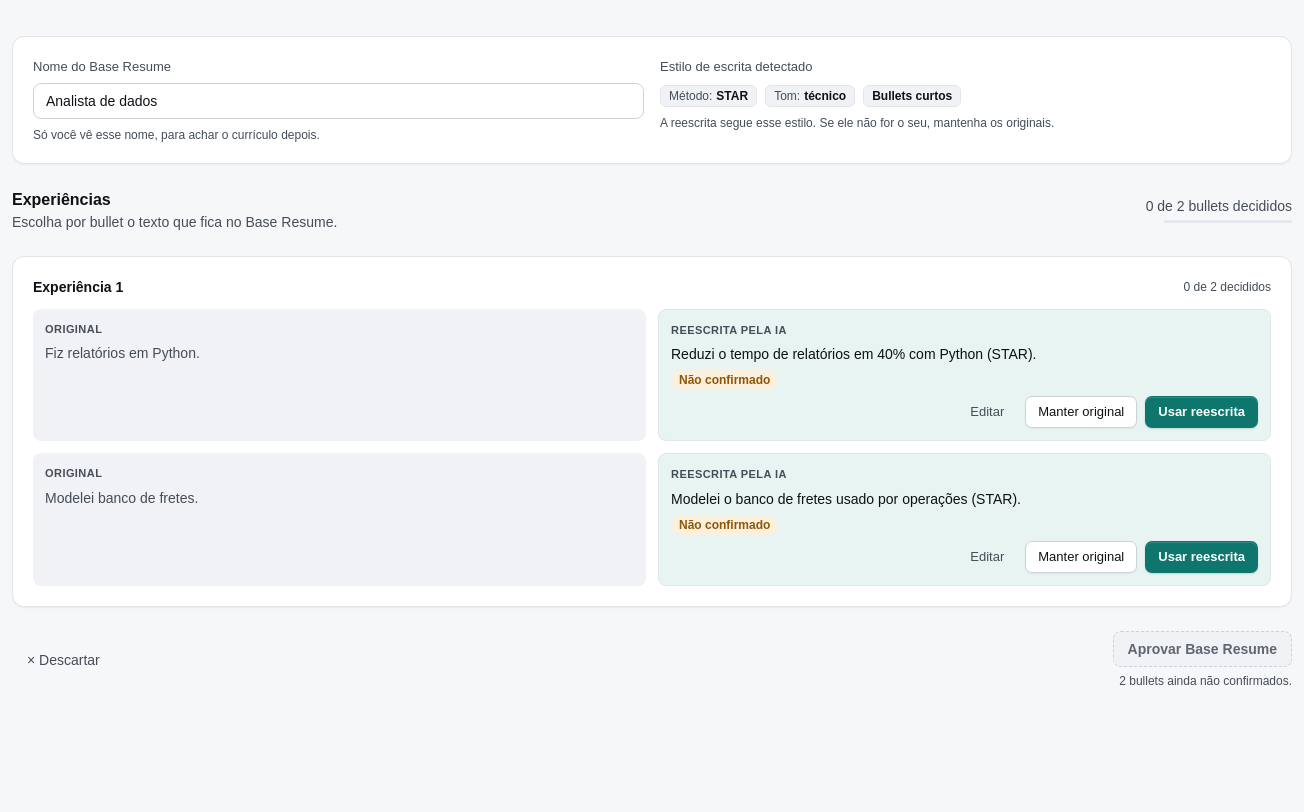
Test: ProposalScreen › should count decisions per bullet and enable approval only when all are decided
This screenshot has width=1304, height=812.
Click the 1st button "Usar reescrita" at (1202, 412), box left=1145, top=396, right=1258, bottom=428
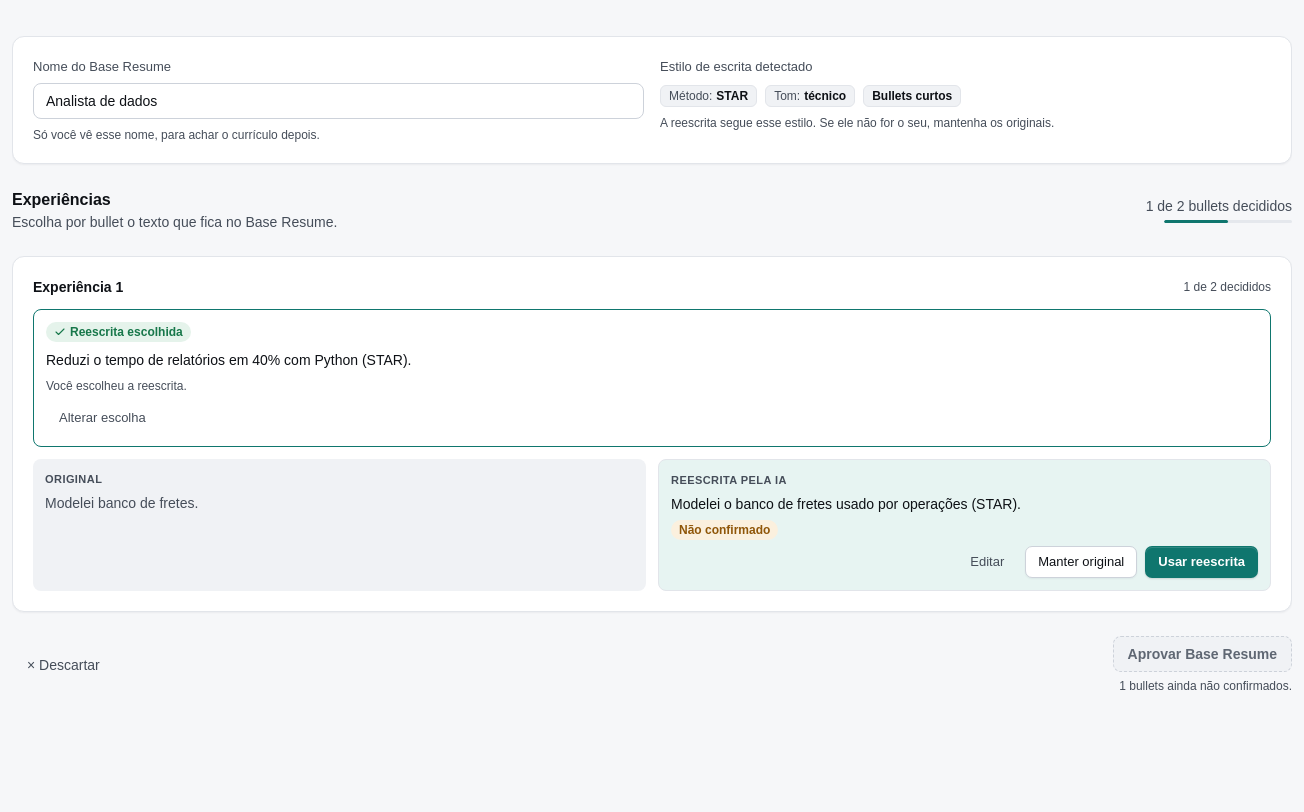
Expected: the button "Aprovar Base Resume" is disabled, left=1113, top=636, right=1292, bottom=672
Result: the text "1 de 2 bullets decididos" is shown at left=1146, top=196, right=1292, bottom=216
Result: the text "Reescrita escolhida" is shown at left=46, top=322, right=191, bottom=342
Click the button "Manter original" at (1081, 562), box left=1025, top=546, right=1137, bottom=578
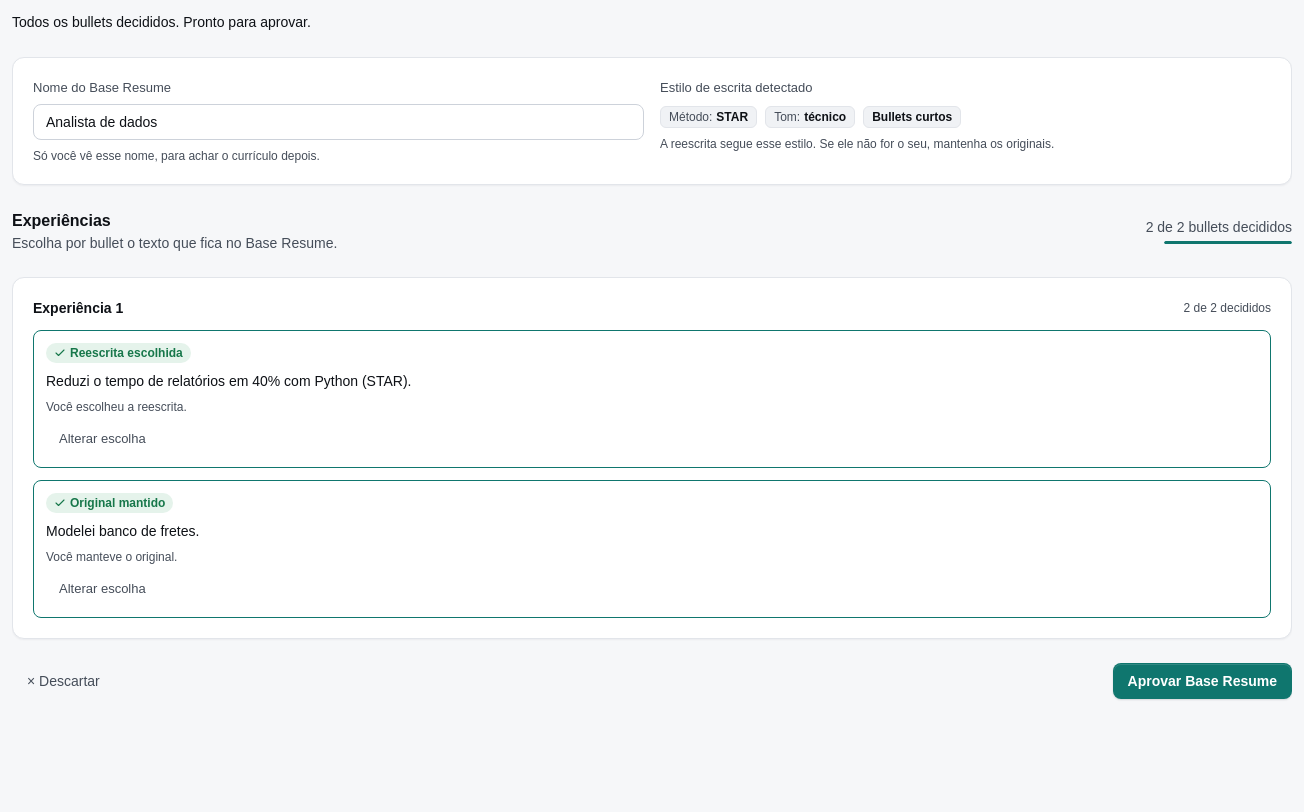
Result: the text "2 de 2 bullets decididos" is shown at left=1146, top=217, right=1292, bottom=237
Result: the text "Original mantido" is shown at left=46, top=492, right=173, bottom=512
Result: the button "Aprovar Base Resume" is enabled at left=1113, top=662, right=1292, bottom=698
